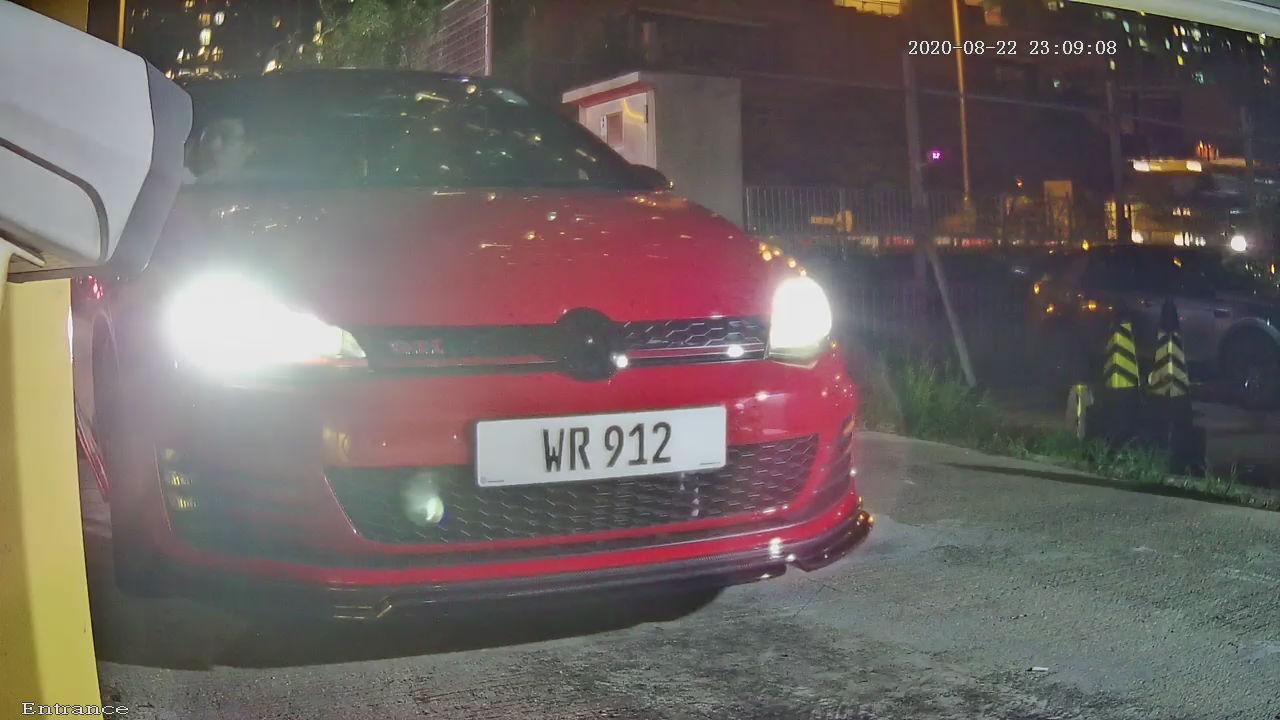Car: (12, 7, 955, 650)
License Plate: (406, 356, 775, 540)
